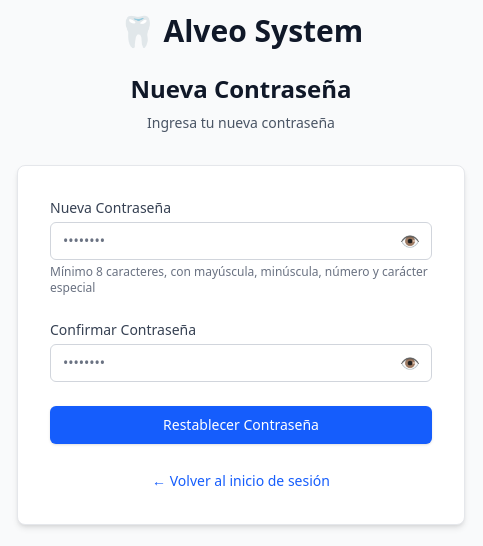
Test case: ResetPasswordPage › form submission › should show success state after successful reset
Type "NewPassword1!" into the password field labelled "Nueva Contraseña" at (241, 241), box [50, 222, 432, 260]
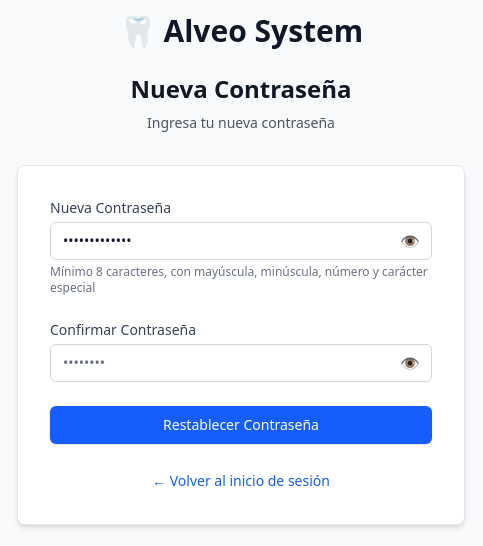
Type "NewPassword1!" into the password field labelled "Confirmar Contraseña" at (241, 363), box [50, 344, 432, 382]
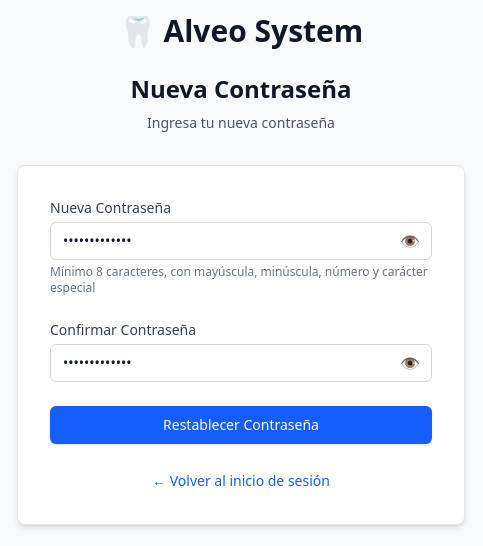
Click the button "Restablecer Contraseña" at (241, 425), box [50, 406, 432, 444]
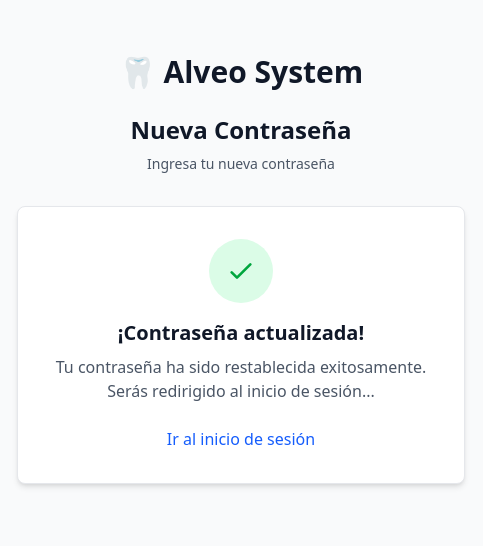
expect the heading "¡Contraseña actualizada!" is shown: met, box [118, 319, 364, 346]
expect the text "Tu contraseña ha sido restablecida exitosamente" is shown: met, box [56, 356, 426, 402]
